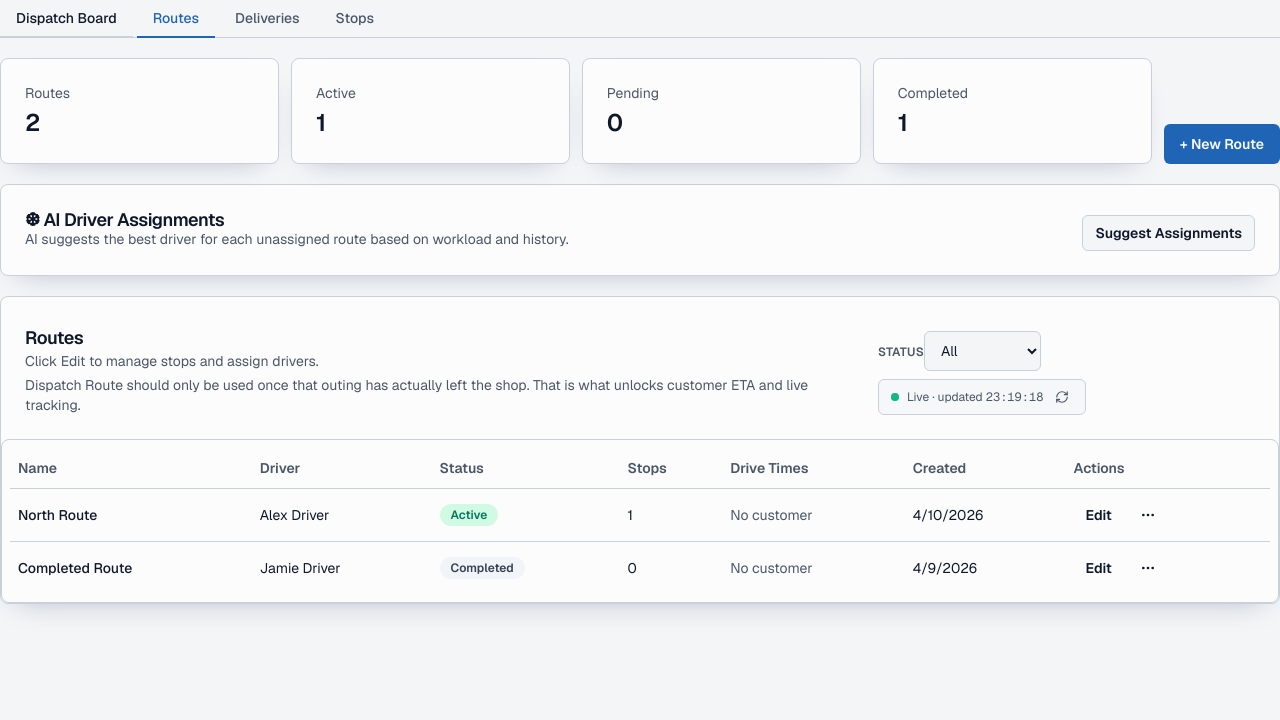
Test case: RoutesPage › filters the route list and deletes a route after confirmation
The width and height of the screenshot is (1280, 720).
Check: the text "North Route" is shown, box [10, 488, 252, 541]
Check: the text "Completed Route" is shown, box [10, 541, 252, 594]
Select "Completed" in the dropdown showing "All" at point(983, 351), box [924, 331, 1041, 371]
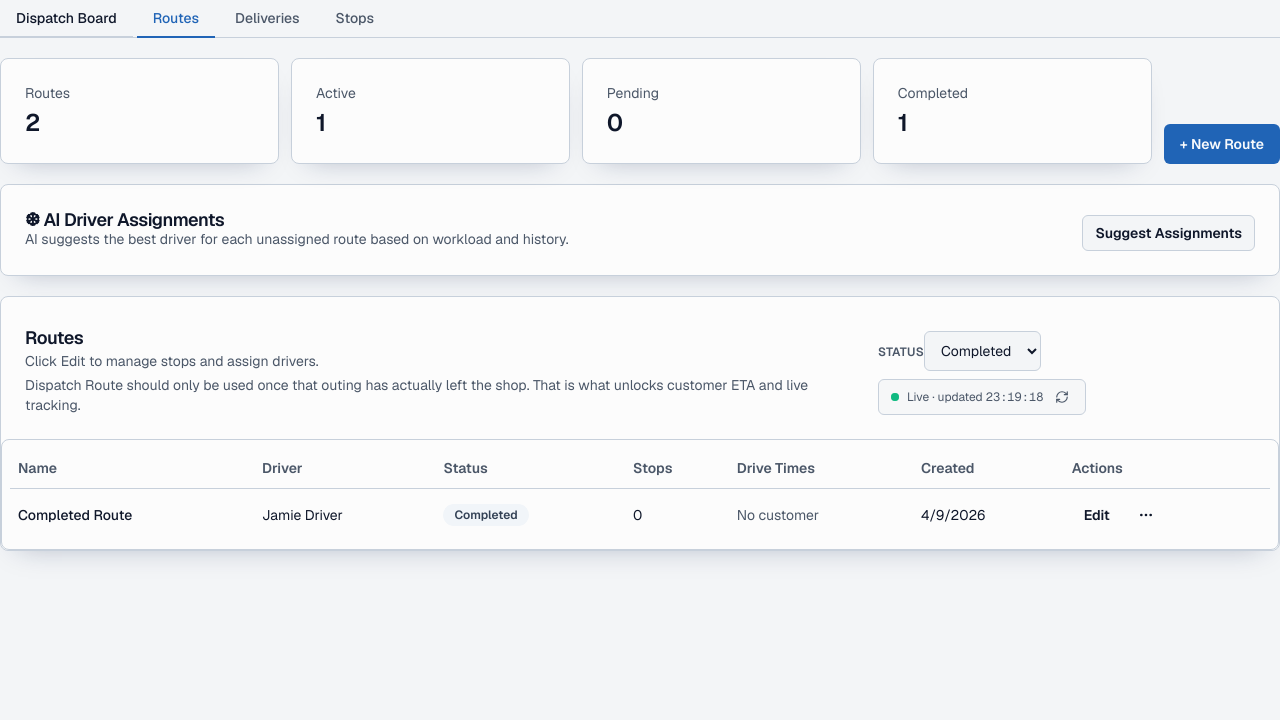
Check: the text "Completed Route" is shown, box [10, 488, 254, 540]
Check: the text "North Route" is gone
Select "All" in the dropdown showing "Completed" at point(983, 351), box [924, 331, 1041, 371]
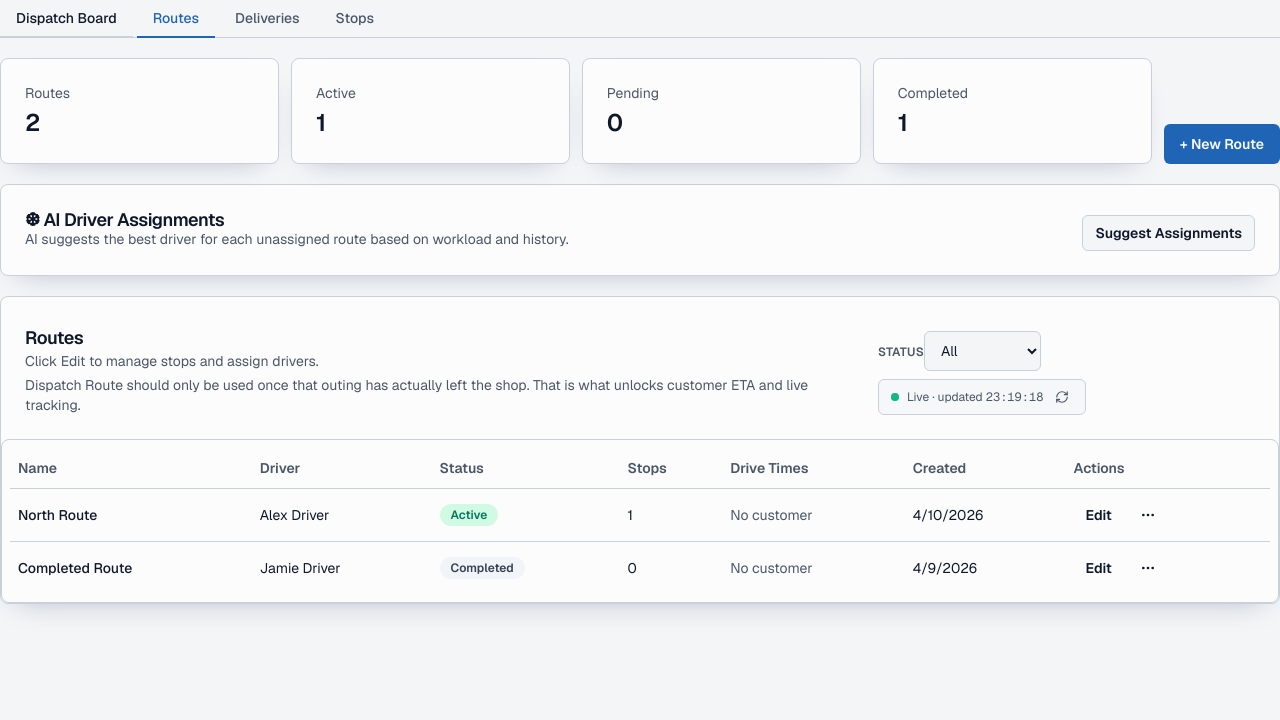
Click the button "Edit" in the row of "North Route" at point(1099, 514), box [1074, 496, 1124, 532]
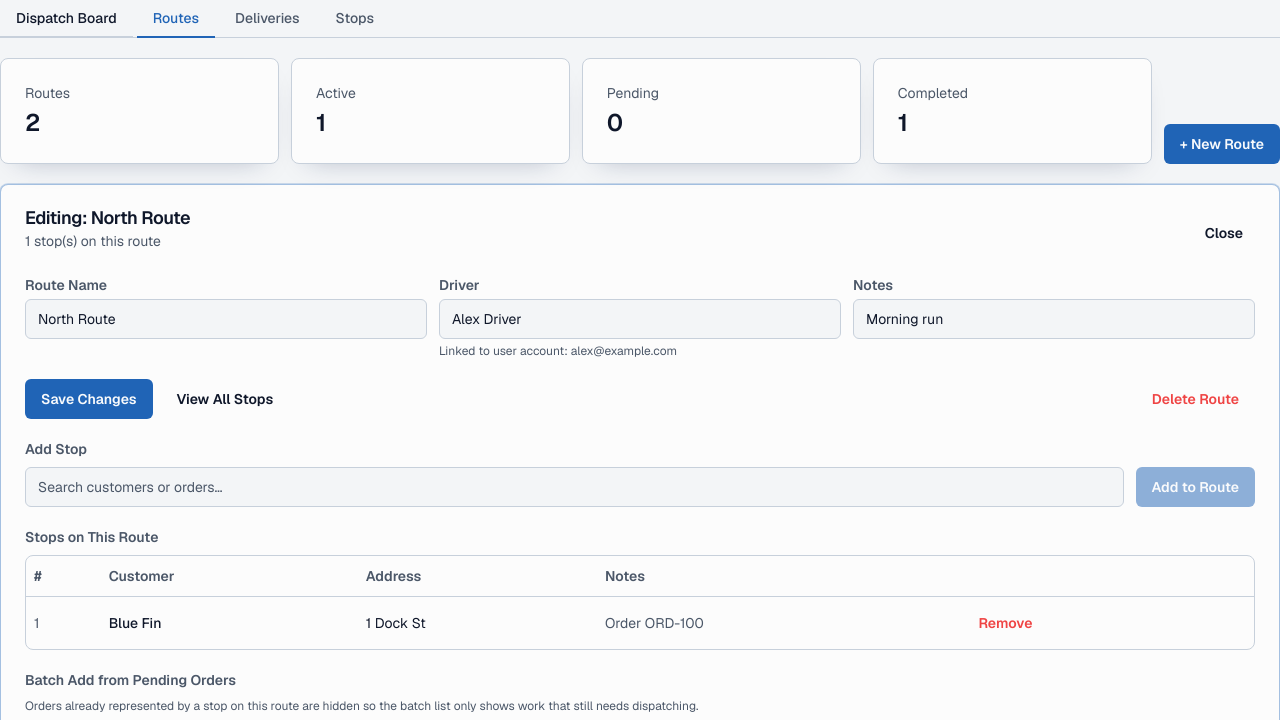
Click the button "Delete Route" at point(1195, 399), box [1136, 379, 1255, 419]
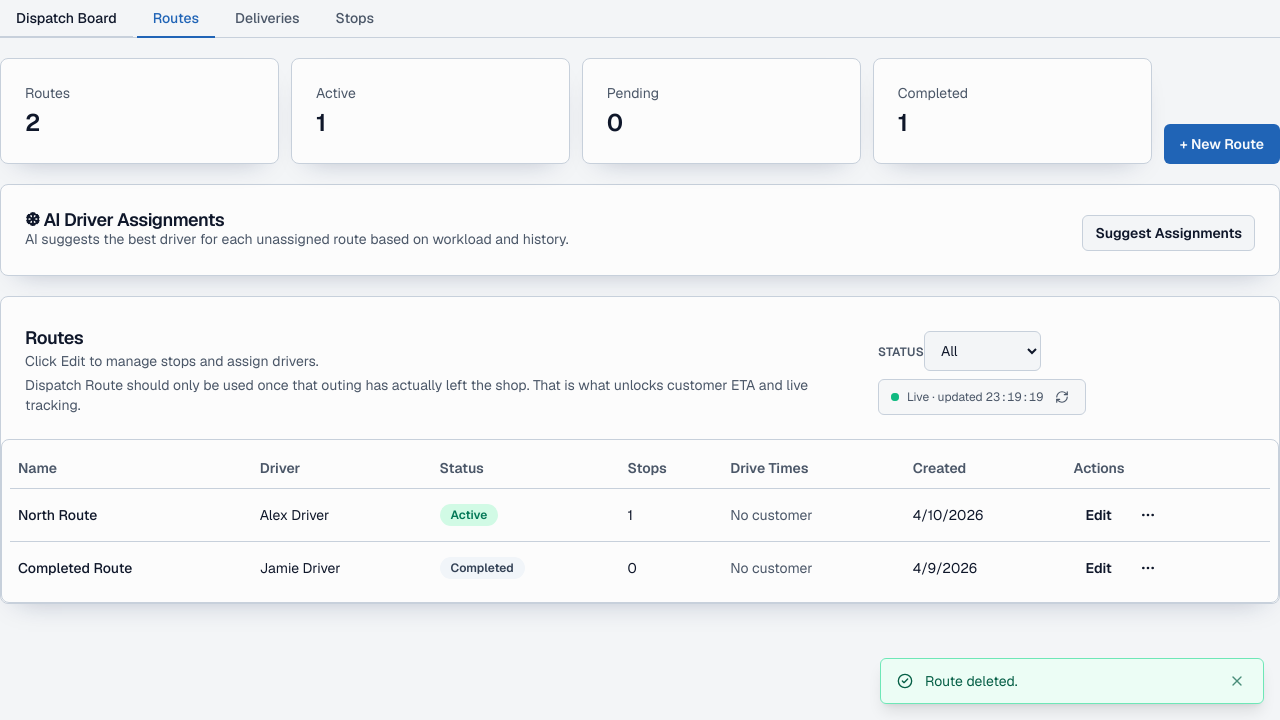
Check: the text "Route deleted." is shown, box [925, 672, 1018, 690]
